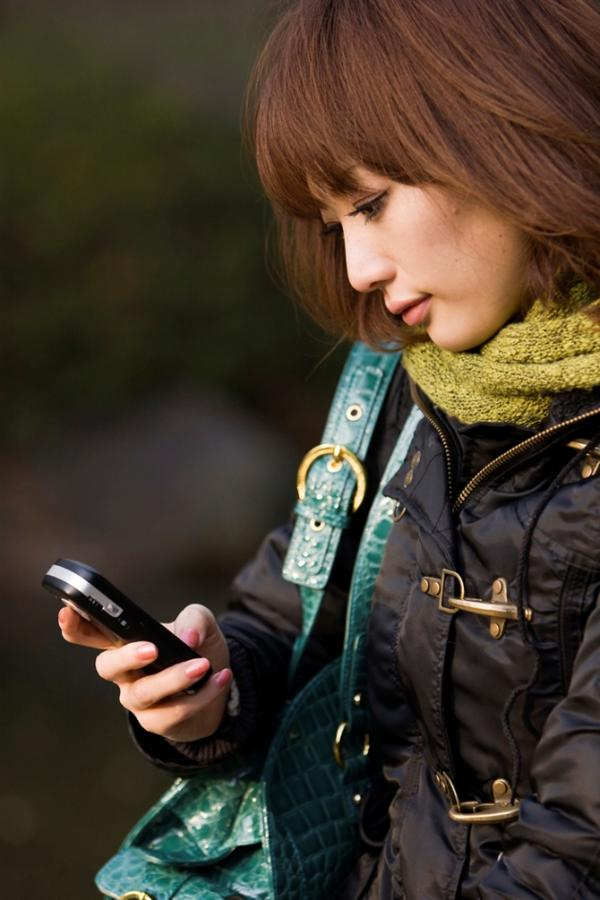person: (55, 5, 598, 899)
